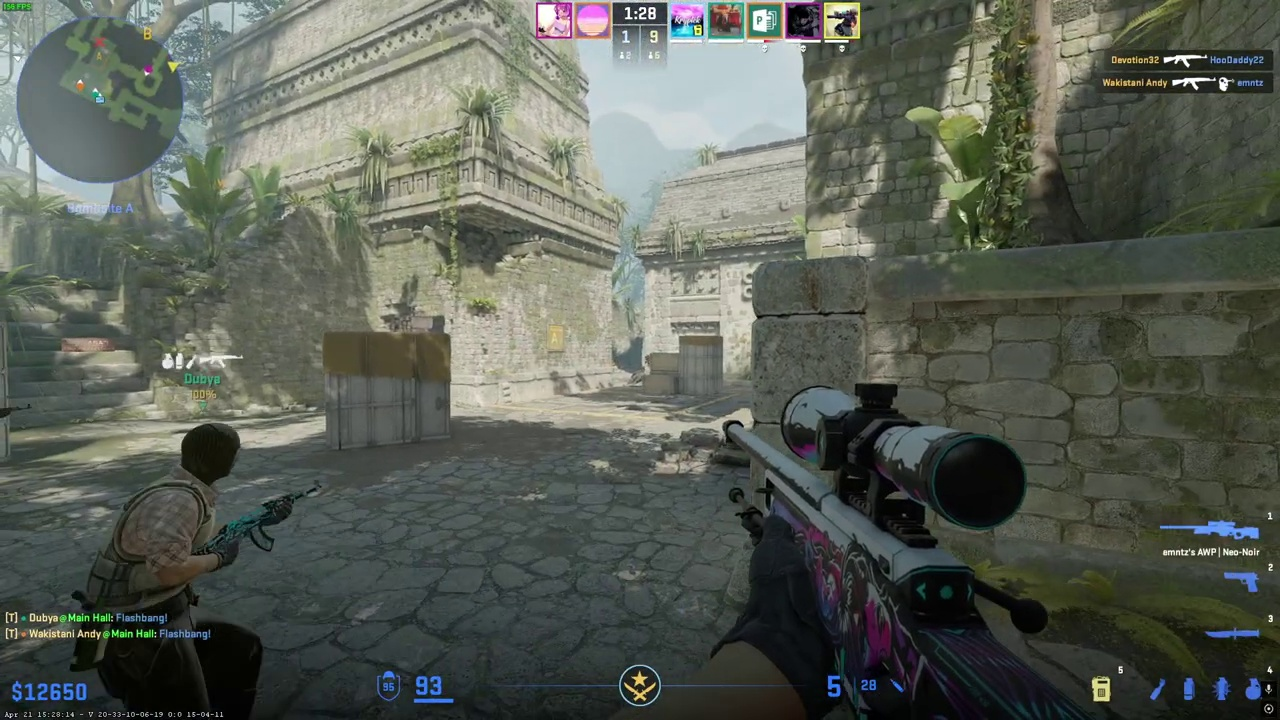Terrorist: (81, 423, 264, 719)
